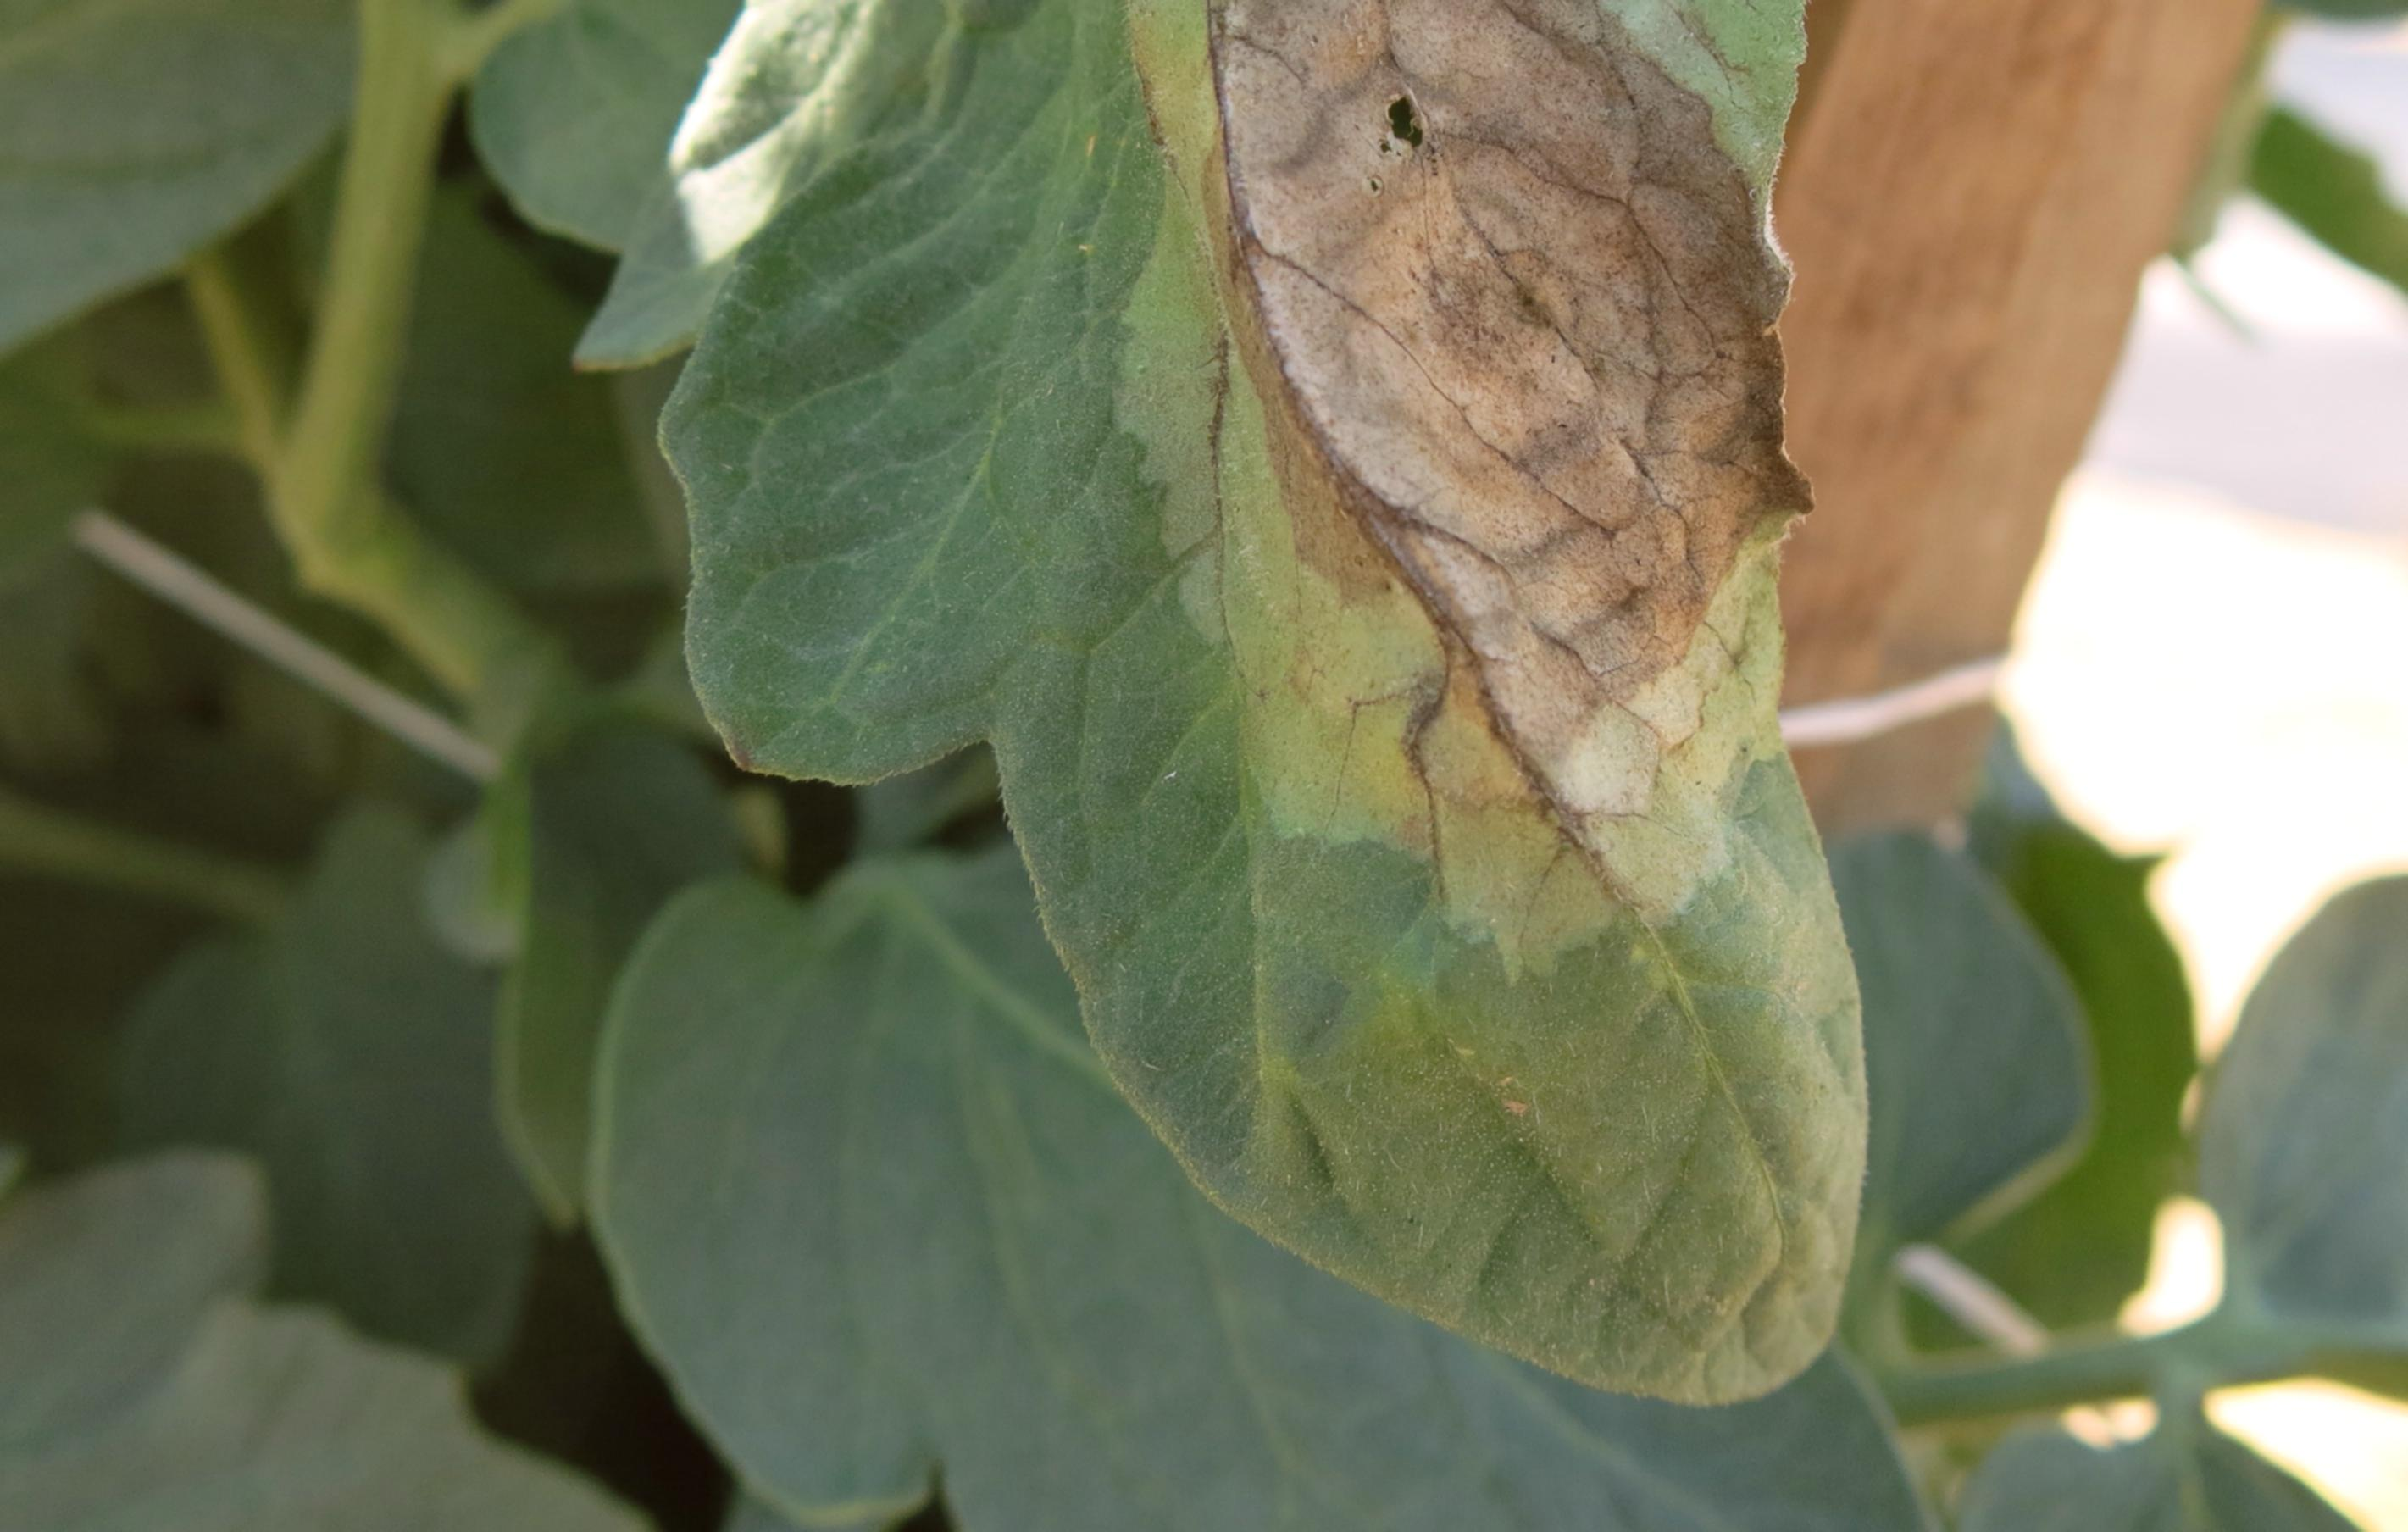Tomato leaf late blight: (484, 0, 2094, 1481)
